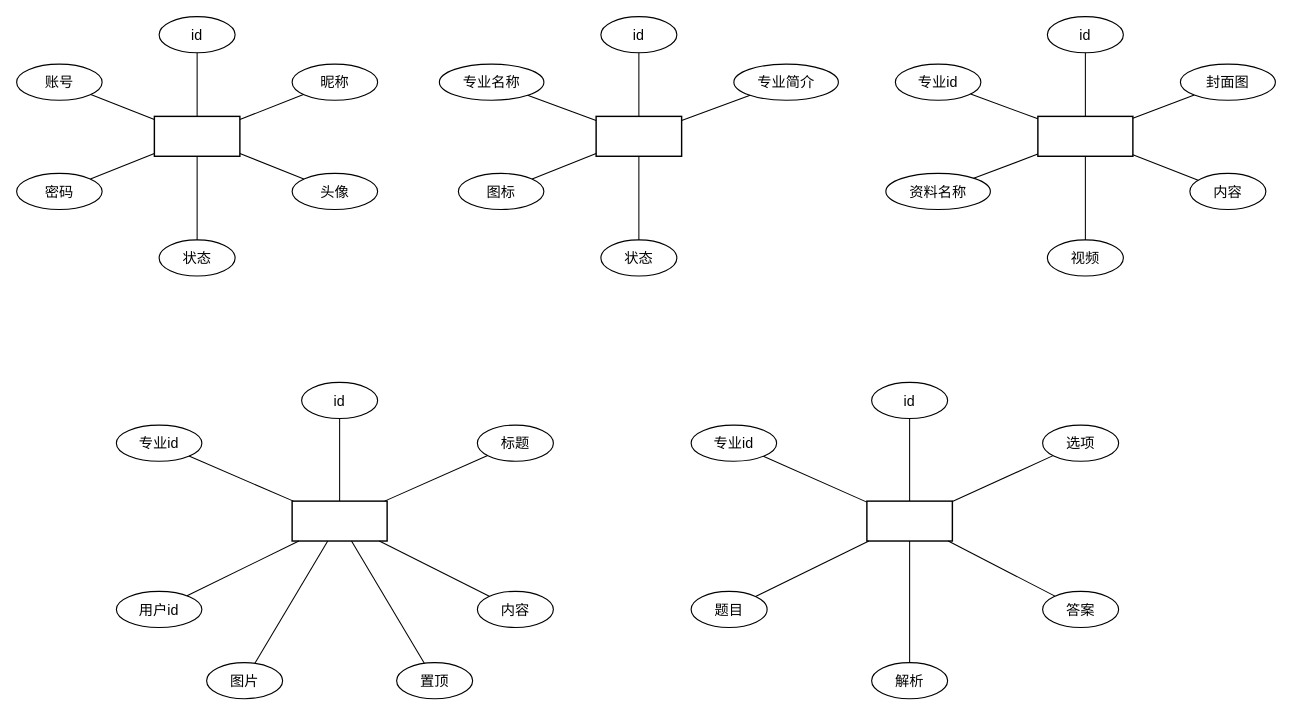
This 1293x716 diagram has some shape labels left out. The shapes that lost their labels are listed below. From the top down, each one's centre as x and y in pixels, then its label:
At point 196,136: "用户".
At point 638,136: "专业".
At point 1085,136: "学习资料".
At point 339,520: "论坛帖子".
At point 909,520: "题库".
